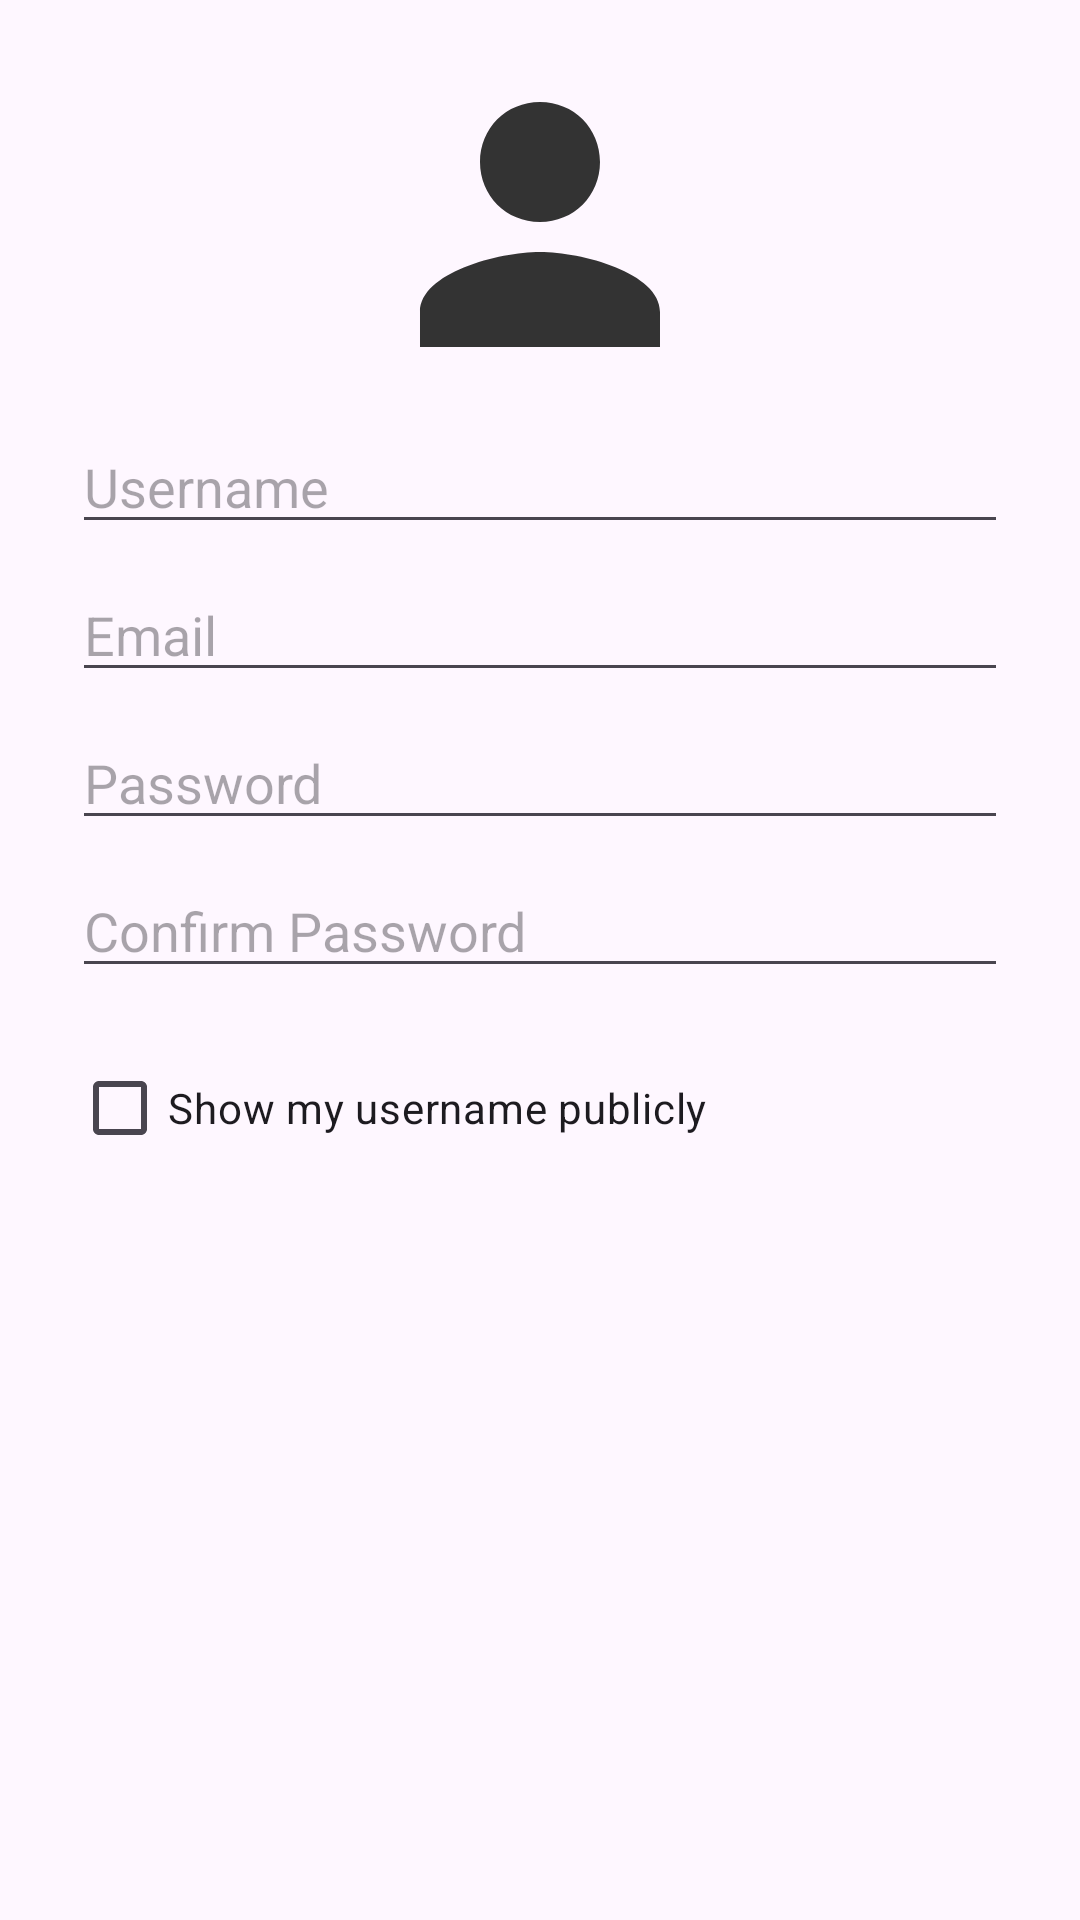

Icons on this 1080px x 1920px Android screen, each with the point to tap as (x,y):
Tap to select profile image: (540,224)
